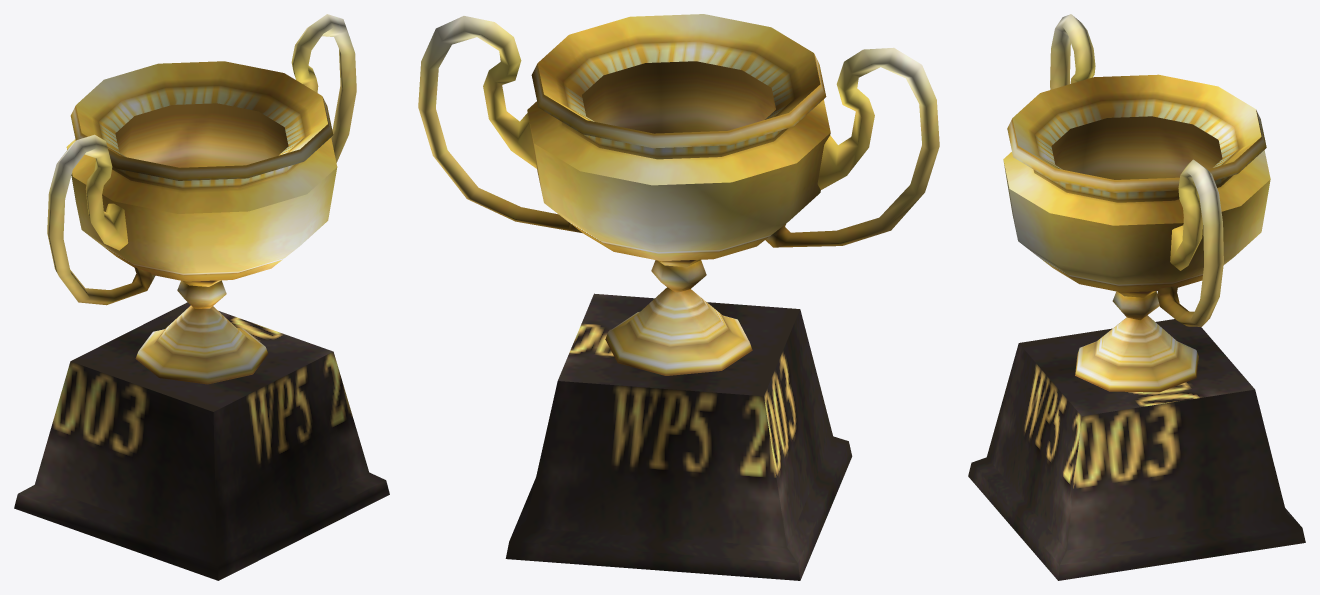
File: ic_owner.icn.obj
3 renders of one model, left to right at view 1: azimuth 30°, elevation 25°; view 2: azimuth 150°, elevation 25°; view 3: azimuth 270°, elevation 25°, orthographic. The views are drawn at different scales.
Size of the model in its own units: 3.5 by 3.69 by 2.69.
